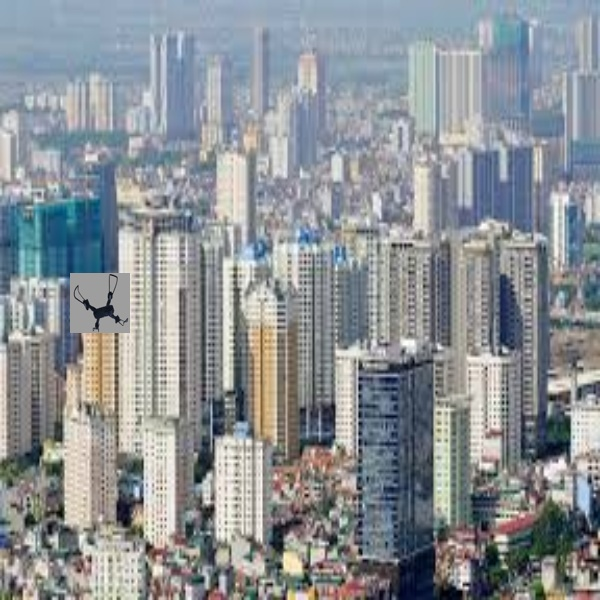drone: (69, 271, 133, 331)
